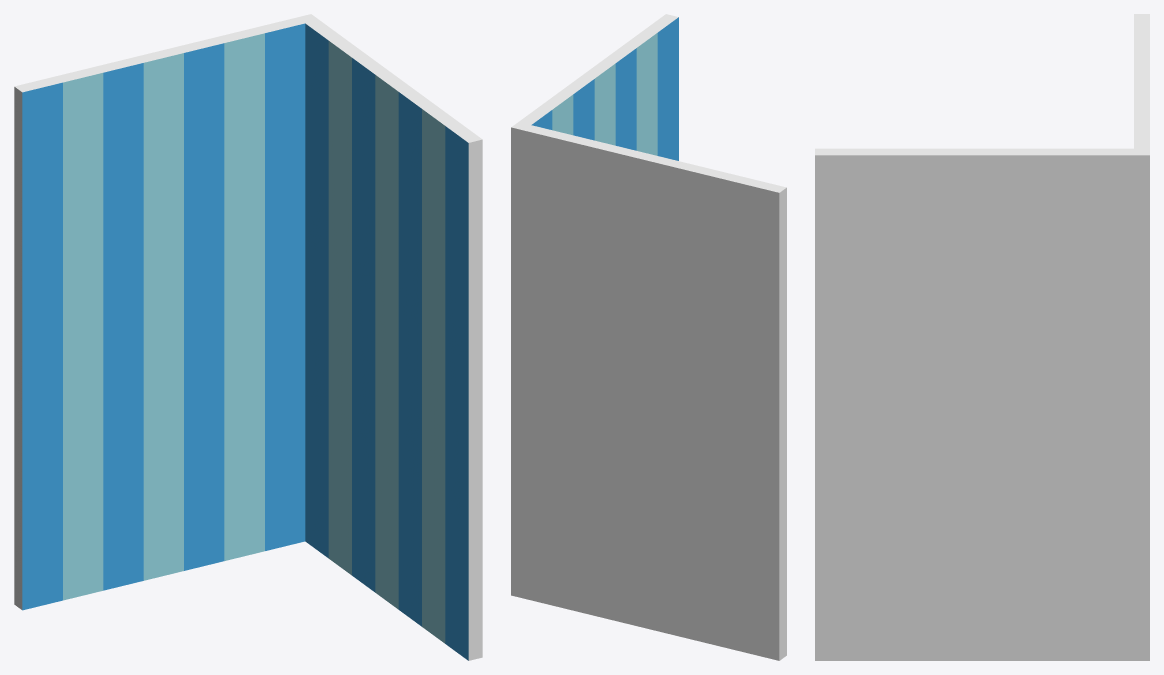
File: Prop_WallCornor_02.fbx
3 renders of one model, left to right at view 1: azimuth 30°, elevation 25°; view 2: azimuth 150°, elevation 25°; view 3: azimuth 270°, elevation 25°, orthographic. The views are drawn at different scales.
Parts seen in each view (by area): view 1: Prop_WallCornor_02; view 2: Prop_WallCornor_02; view 3: Prop_WallCornor_02.
Part boxes in pixels (bbox=[...]): Prop_WallCornor_02: bbox=[14, 14, 482, 660]; Prop_WallCornor_02: bbox=[511, 14, 786, 660]; Prop_WallCornor_02: bbox=[815, 14, 1149, 660].
Bounding box in the file's own units: 210 × 350 × 210.
